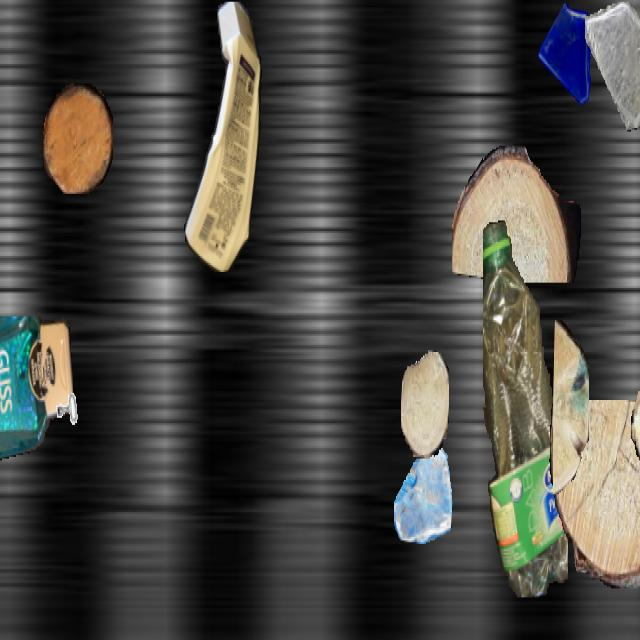glass: (537, 1, 601, 116), (585, 2, 640, 130), (394, 439, 452, 542)
metal: (47, 351, 91, 428)
plastic: (483, 218, 567, 596), (178, 2, 266, 272), (0, 316, 73, 462)
wood: (452, 146, 580, 281), (549, 400, 640, 588), (43, 84, 113, 194), (553, 320, 589, 494), (401, 350, 449, 457), (631, 332, 640, 489)
